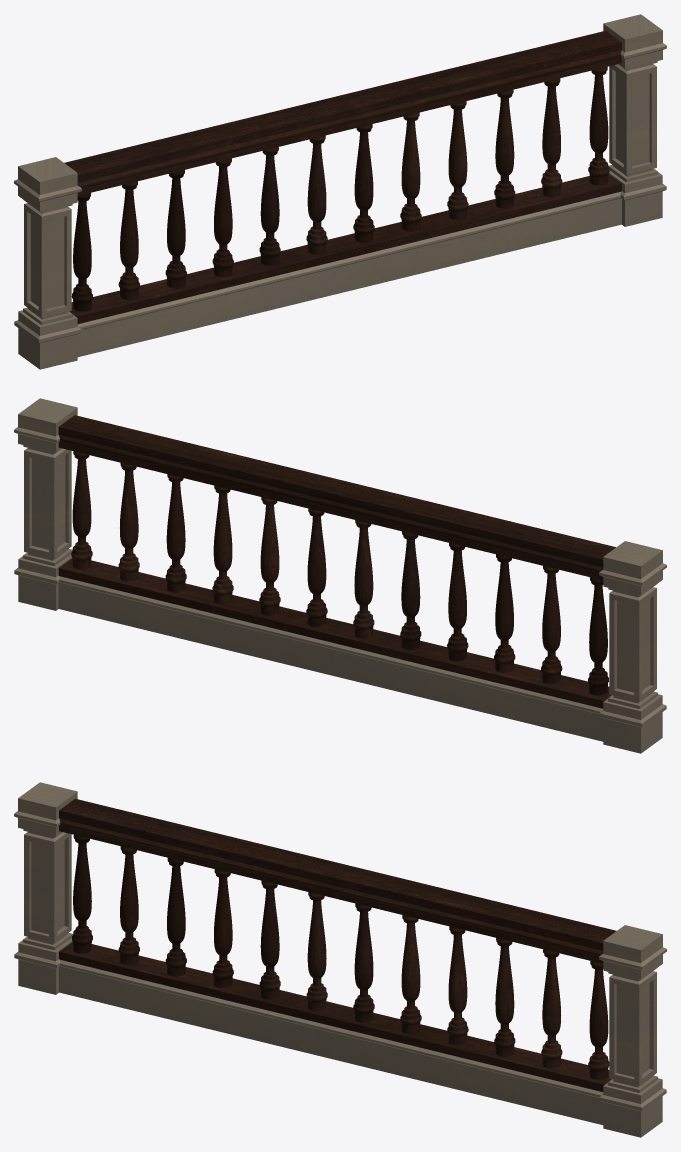
File: SK1 RAILING LONG.fbx
3 renders of one model, top to bottom at view 1: azimuth 30°, elevation 25°; view 2: azimuth 150°, elevation 25°; view 3: azimuth 330°, elevation 25°, orthographic.
Parts seen in each view (by area): view 1: SK2 RAILING LONG; view 2: SK2 RAILING LONG; view 3: SK2 RAILING LONG.
Part boxes in pixels (left/top/right/bottom): SK2 RAILING LONG: left=14, top=14, right=666, bottom=369; SK2 RAILING LONG: left=14, top=398, right=666, bottom=753; SK2 RAILING LONG: left=14, top=782, right=666, bottom=1137.
Size of the model in its own units: 399 by 114 by 27.43.
